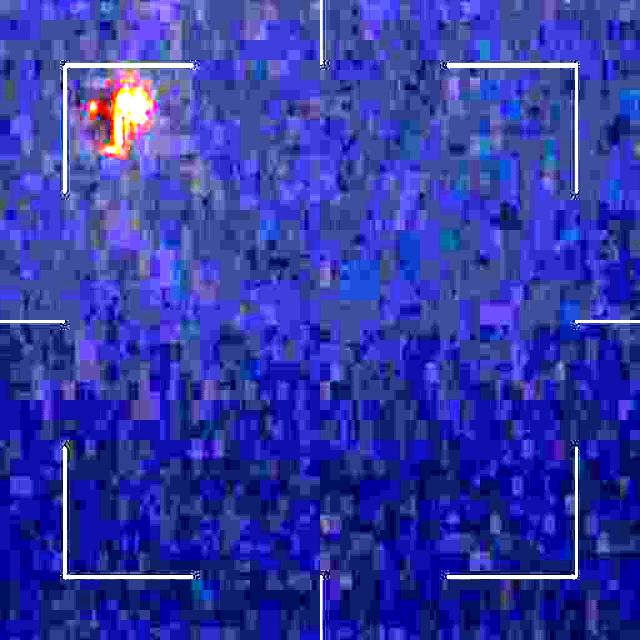bird: (82, 82, 144, 160)
